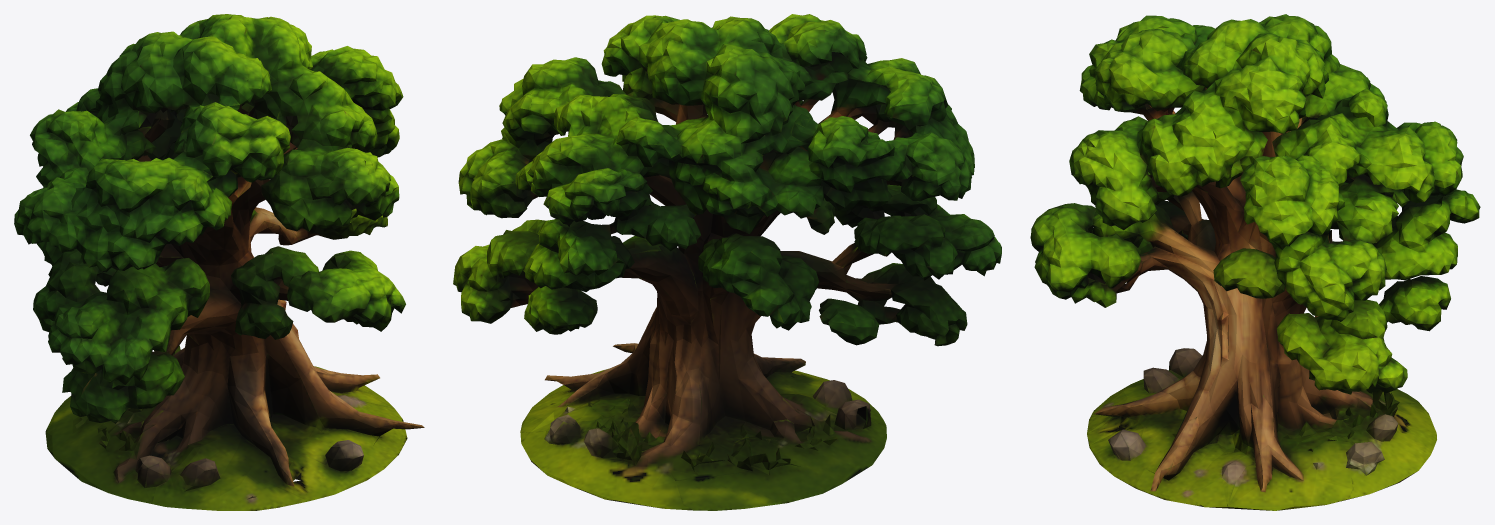
Rendered from Oaktree.glb.
3 views of the same model, side by side, from view 1: azimuth 30°, elevation 25°; view 2: azimuth 150°, elevation 25°; view 3: azimuth 270°, elevation 25° (orthographic). The views are drawn at different scales.
Visible parts, largest first — view 1: world; view 2: world; view 3: world.
Boxes of the visible parts, x1,y1,x2,y2 form: world: [14, 14, 424, 510]; world: [453, 14, 1001, 510]; world: [1030, 14, 1480, 510].
Bounding box in the file's own units: 0.9816 × 0.8861 × 0.8957.
Materials: 1 (1 with a texture image).
